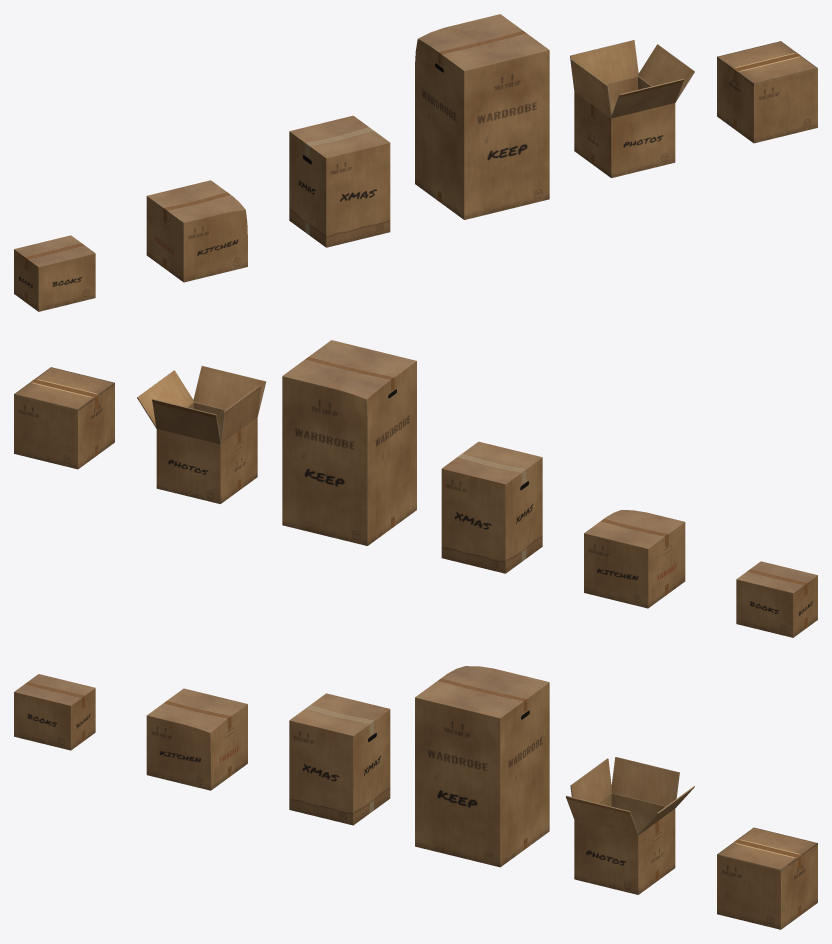
The model's file is Boxes.fbx.
3 renders of one model, top to bottom at view 1: azimuth 30°, elevation 25°; view 2: azimuth 150°, elevation 25°; view 3: azimuth 330°, elevation 25°, orthographic.
Parts seen in each view (by area): view 1: Wardrobe, Open, Large, Medium, Marked_Body, Small, Marked_FlapFront, Marked_FlapBack; view 2: Wardrobe, Open, Large, Medium, Marked_Body, Small, Marked_FlapBack, Marked_FlapFront; view 3: Wardrobe, Open, Large, Medium, Marked_Body, Small, Marked_FlapFront, Marked_FlapBack.
Boxes of the visible parts, x1,y1,x2,y2 form: Wardrobe: (415,14,549,219); Open: (570,40,694,177); Large: (289,115,390,247); Medium: (146,180,247,282); Marked_Body: (717,57,817,143); Small: (14,235,95,311); Marked_FlapFront: (737,56,817,83); Marked_FlapBack: (717,41,796,68); Wardrobe: (282,340,416,545); Open: (137,366,266,503); Large: (441,441,542,573); Medium: (584,510,685,608); Marked_Body: (14,383,114,469); Small: (736,561,817,637); Marked_FlapBack: (14,382,94,409); Marked_FlapFront: (35,367,114,394); Wardrobe: (415,666,549,867); Open: (565,757,694,894); Large: (289,693,390,825); Medium: (146,688,247,790); Marked_Body: (717,843,817,929); Small: (14,674,95,750); Marked_FlapFront: (717,842,796,870); Marked_FlapBack: (738,827,817,854).
Size of the model in its own units: 21.72 by 4 by 2.55.
2 materials, 1 textured.
